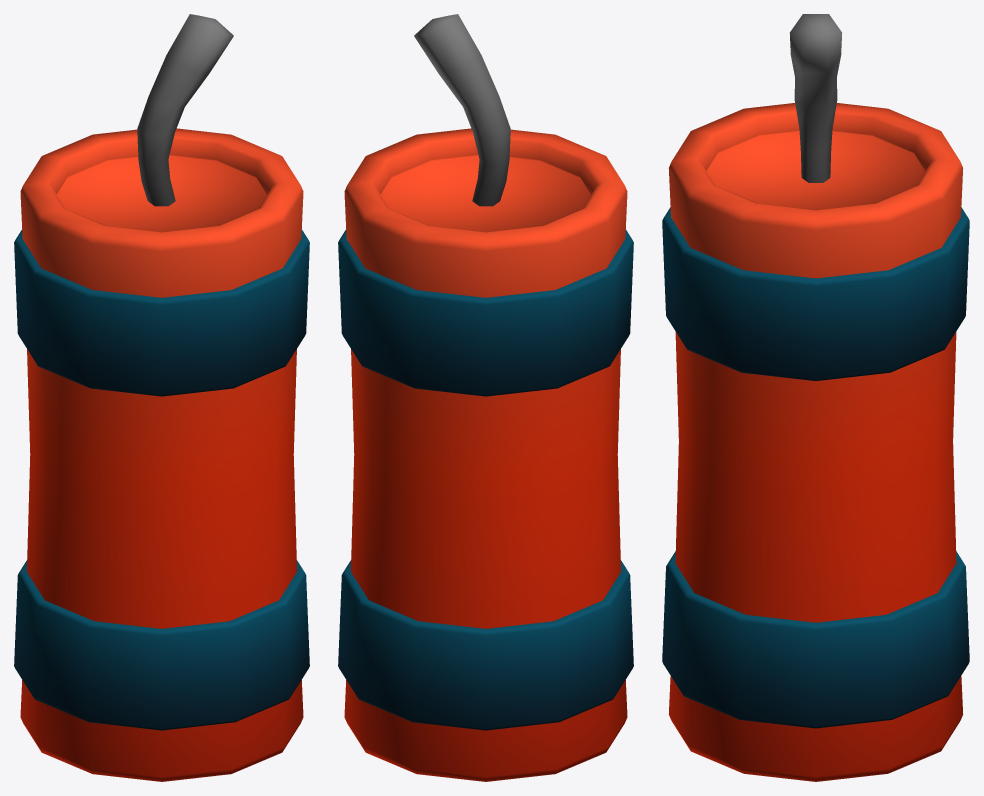
File: Collectible_Dynamite_01.fbx
3 views of the same model, side by side, from view 1: azimuth 30°, elevation 25°; view 2: azimuth 150°, elevation 25°; view 3: azimuth 270°, elevation 25° (orthographic). The views are drawn at different scales.
Parts seen in each view (by area): view 1: Collectible_Dynamite_01; view 2: Collectible_Dynamite_01; view 3: Collectible_Dynamite_01.
Part boxes in pixels (<box>): Collectible_Dynamite_01: <box>14,14,309,781</box>; Collectible_Dynamite_01: <box>338,14,633,781</box>; Collectible_Dynamite_01: <box>662,14,969,781</box>.
Bounding box in the file's own units: 35.79 × 93.29 × 35.79.
